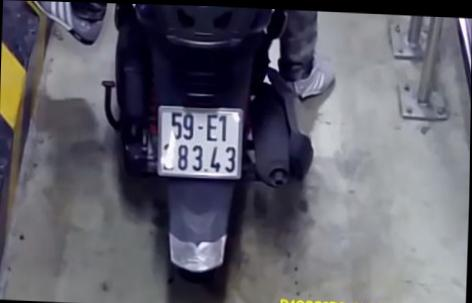LP: (155, 101, 247, 180)
